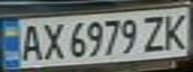6: (66, 18, 87, 60)
7: (103, 17, 124, 56)
9: (118, 16, 142, 56), (84, 18, 106, 58)
A: (15, 21, 45, 62)
K: (160, 9, 193, 52)
X: (36, 20, 66, 61)
Z: (139, 12, 169, 54)
